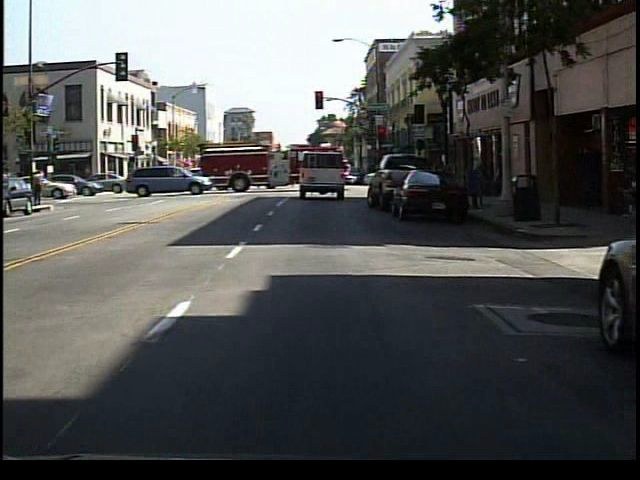person: (33, 167, 48, 207)
